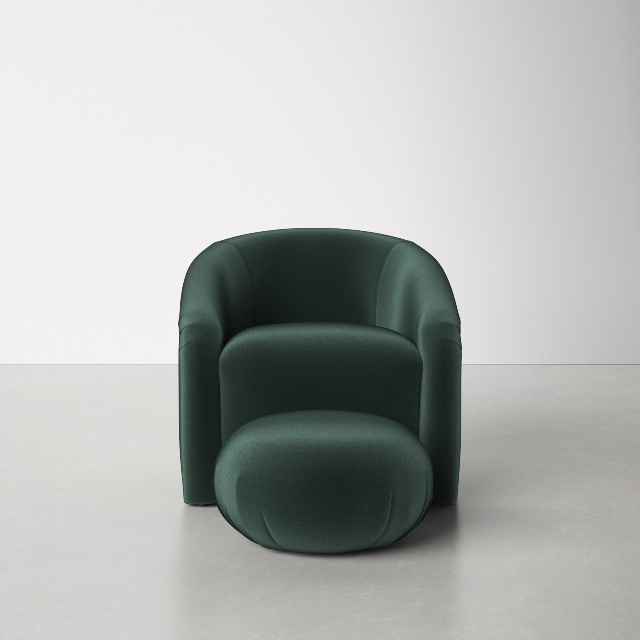obstacle: (179, 229, 461, 552)
